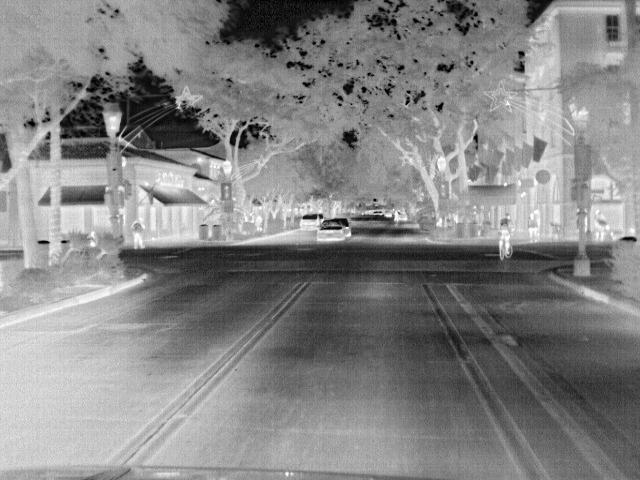car: (314, 218, 346, 244), (300, 210, 324, 229), (337, 218, 352, 240)
person: (591, 207, 610, 241), (497, 214, 512, 257), (130, 215, 145, 251), (524, 211, 540, 238)
